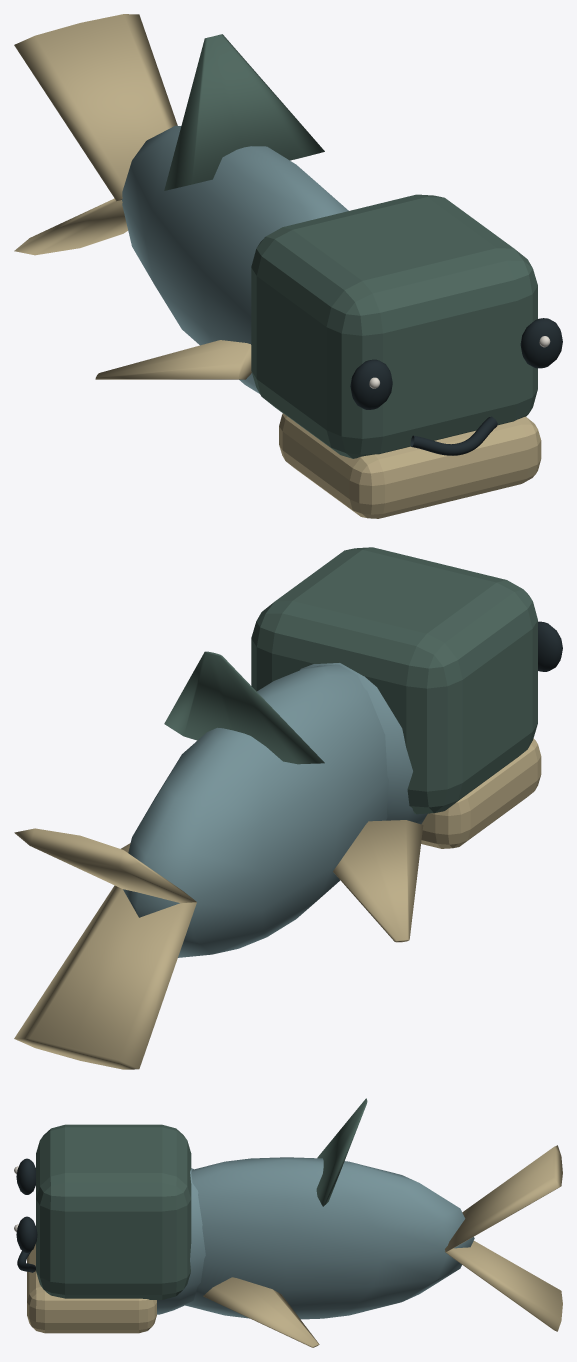
Rendered from org_dunkleosteus.glb.
The picture shows the model from 3 angles, top to bottom: view 1: azimuth 30°, elevation 25°; view 2: azimuth 150°, elevation 25°; view 3: azimuth 270°, elevation 25°; orthographic projection. The views are drawn at different scales.
Parts seen in each view (by area): view 1: Head, Body, Tail, Fin_R, Eye_L, Eye_R; view 2: Head, Body, Tail, Fin_R, Eye_R; view 3: Body, Head, Tail, Fin_L, Eye_L, Eye_R.
Boxes of the visible parts, x1,y1,x2,y2 form: Head: [251, 194, 541, 518]; Body: [122, 34, 348, 393]; Tail: [14, 14, 177, 255]; Fin_R: [95, 340, 251, 379]; Eye_L: [520, 318, 562, 368]; Eye_R: [350, 359, 392, 409]; Head: [251, 547, 541, 848]; Body: [123, 651, 388, 957]; Tail: [14, 828, 196, 1069]; Fin_R: [333, 820, 423, 942]; Eye_R: [538, 621, 562, 671]; Body: [185, 1098, 474, 1319]; Head: [17, 1124, 205, 1333]; Tail: [445, 1145, 562, 1331]; Fin_L: [203, 1277, 319, 1347]; Eye_L: [14, 1216, 37, 1252]; Eye_R: [14, 1158, 35, 1194].
Bounding box in the file's own units: 0.9015 × 0.85 × 1.95.
